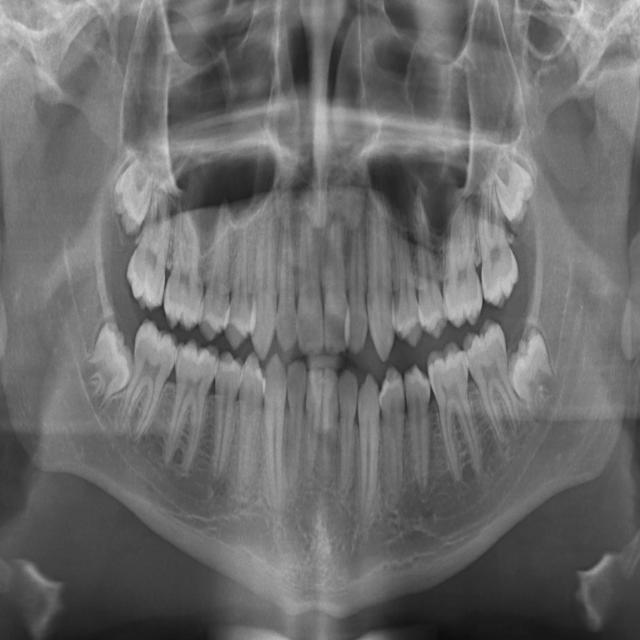3M ESPE Implant: (103, 142, 160, 238)
AGS Medikal Implant: (456, 315, 535, 453)
AMerOss Implant: (422, 338, 492, 485)
Amalgam filling: (142, 225, 142, 226)
Anthogyr Implant: (403, 363, 437, 504)
Bicon Implant: (378, 364, 412, 508)
BioHorizons Implant: (358, 372, 380, 529)
BioLife Implant: (338, 368, 358, 493)
Biomet 3i Implant: (321, 365, 337, 484)
Blue Sky Bio Implant: (299, 366, 323, 485)
Camlog Implant: (287, 357, 306, 487)
Caries: (347, 219, 368, 356)
Composite filling: (263, 354, 286, 518)
Cowellmedi Implant: (231, 348, 266, 495)
Crown: (197, 348, 244, 485)
DENTSPLY Implant: (183, 218, 188, 252)
Dentatus Implant: (150, 335, 221, 475)
Dentis Implant: (114, 315, 182, 450)
Dentium Implant: (64, 317, 149, 420)
Euroteknika Implant: (196, 195, 246, 344)
Filling: (222, 220, 256, 351)
Frontier Implant: (247, 192, 284, 363)
Hiossen Implant: (360, 180, 397, 363)
Implant: (297, 206, 322, 357)
Implant Direct: (274, 205, 296, 352)
Keystone Dental Implant: (323, 212, 347, 356)
MIS Implant: (389, 208, 424, 350)
Mandible: (402, 193, 450, 344)
Maxilla: (460, 206, 467, 251)
Megagen Implant: (475, 181, 522, 310)
Neodent Implant: (482, 139, 547, 228)
Neoss Implant: (495, 321, 571, 429)
